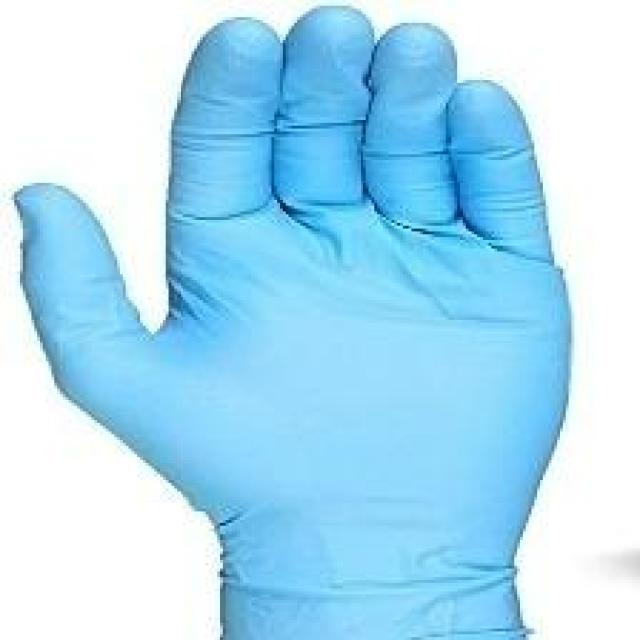Glove: (22, 6, 581, 640)
